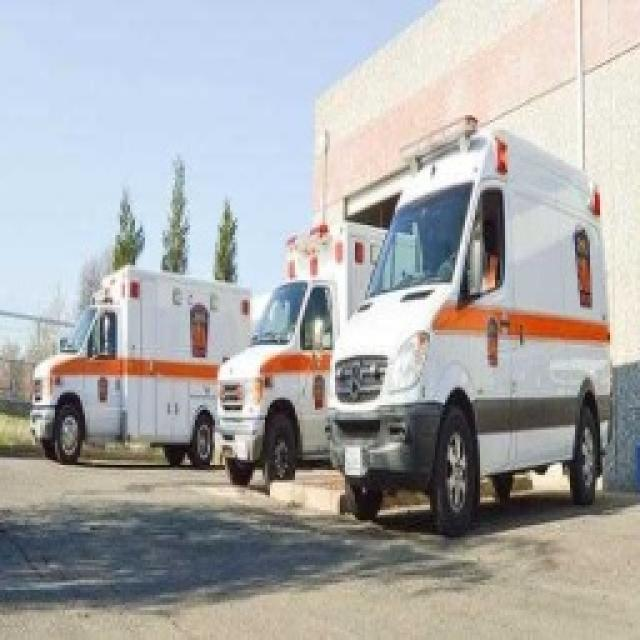emergency-vehicle: (330, 131, 615, 528), (220, 223, 412, 496), (29, 270, 250, 468)
